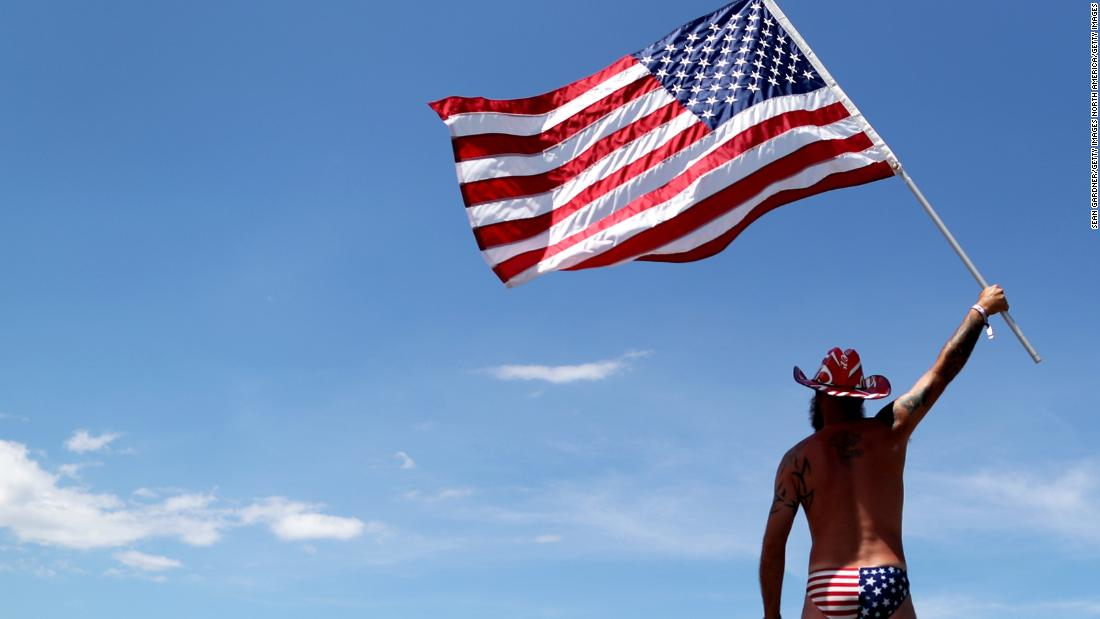America flag: (427, 9, 903, 281)
